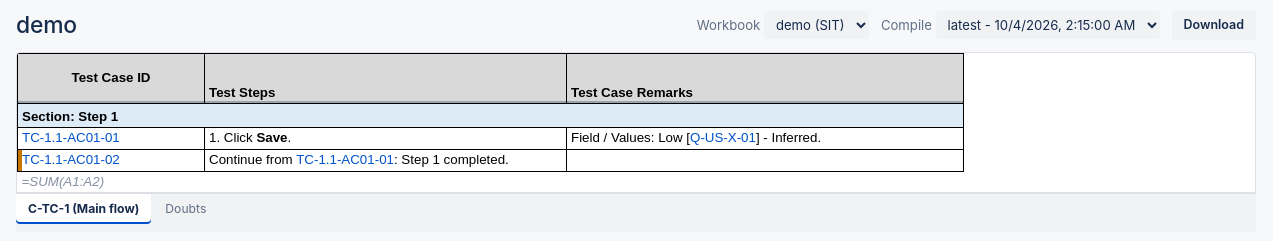
WorkbookPage › shows the error, not "no longer in the wiki", when the test cases cannot be read
The width and height of the screenshot is (1273, 241).
Step 1. Click the cell "1. Click Save." → (386, 139), box top-left (204, 128), bottom-right (566, 150)
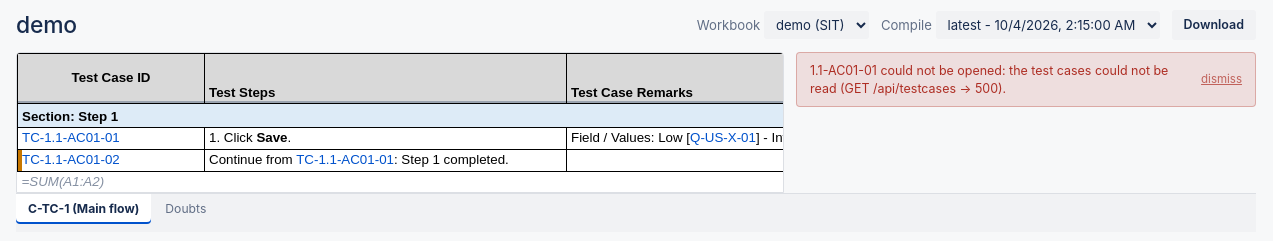
Expected: the text "could not be opened: the test cases could not be read (GET /api/testcases -> 500)" is shown, top-left (810, 62), bottom-right (1191, 97)
